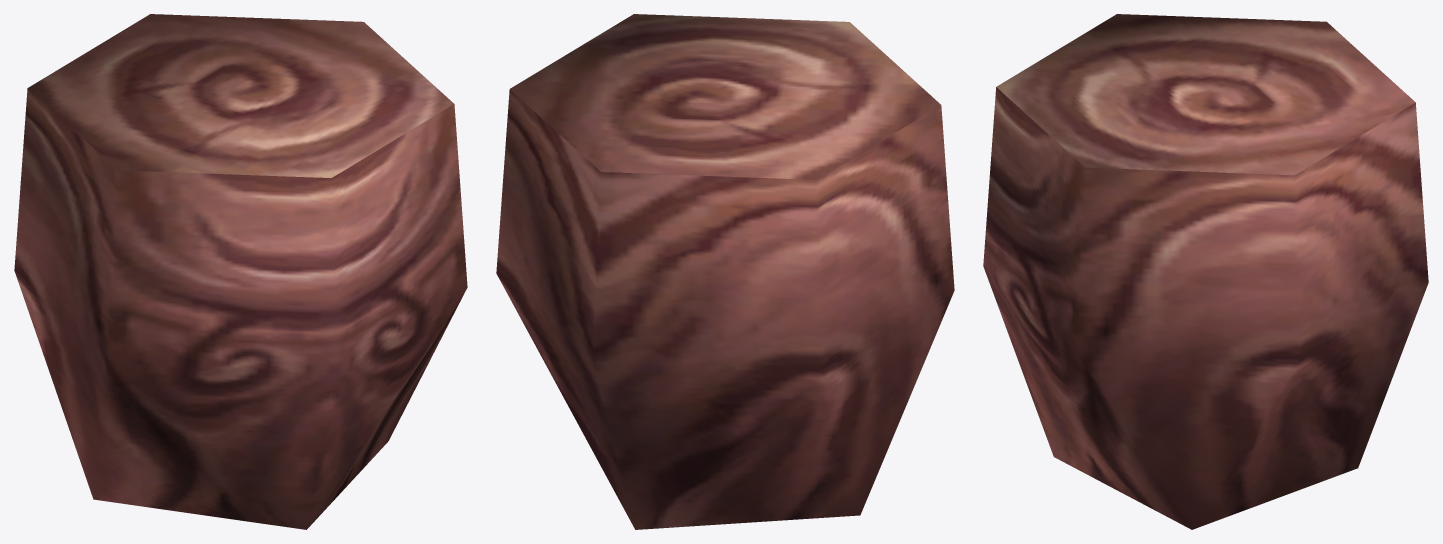
The model's file is gardenbench02.obj.
The picture shows the model from 3 angles, left to right: view 1: azimuth 30°, elevation 25°; view 2: azimuth 150°, elevation 25°; view 3: azimuth 270°, elevation 25°; orthographic projection. The views are drawn at different scales.
Parts seen in each view (by area): view 1: gardenbench02; view 2: gardenbench02; view 3: gardenbench02.
Part boxes in pixels (box(x1,y1,x2,y2)): gardenbench02: box(14, 14, 467, 529); gardenbench02: box(496, 14, 954, 529); gardenbench02: box(983, 14, 1428, 529).
Bounding box in the file's own units: 0.8242 × 0.8258 × 0.9059.
1 material, 1 textured.
